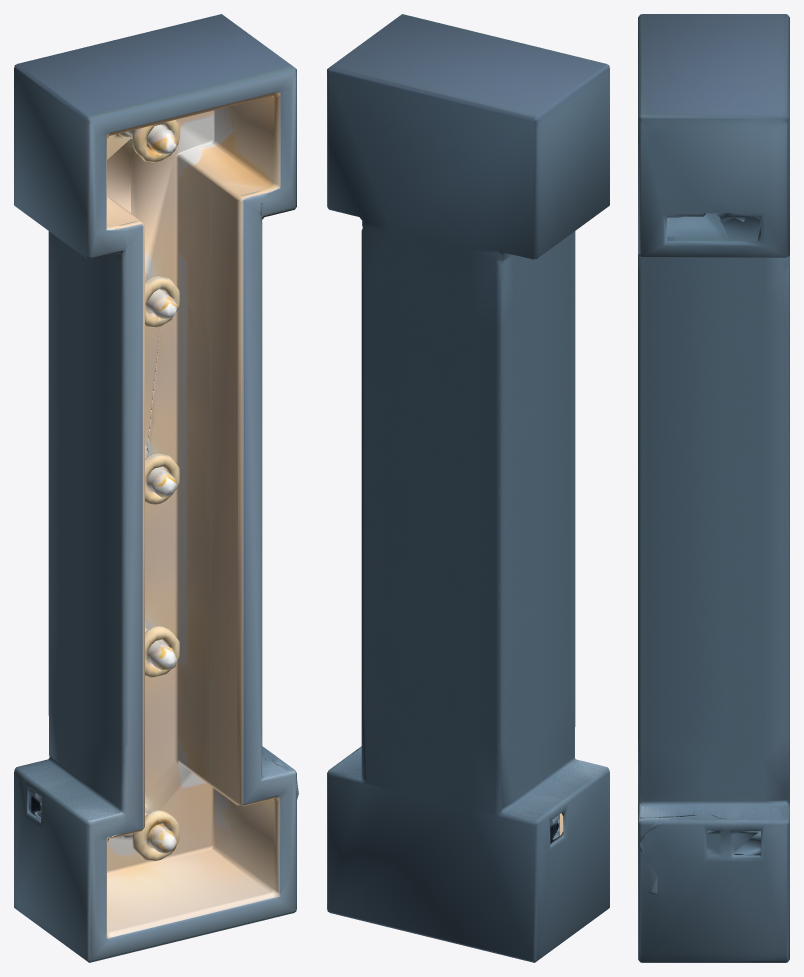
File: Letter_I.glb
3 views of the same model, side by side, from view 1: azimuth 30°, elevation 25°; view 2: azimuth 150°, elevation 25°; view 3: azimuth 270°, elevation 25° (orthographic).
Visible parts, largest first — view 1: Mesh_0; view 2: Mesh_0; view 3: Mesh_0.
Boxes of the visible parts, x1,y1,x2,y2 form: Mesh_0: [14, 14, 298, 962]; Mesh_0: [327, 14, 609, 962]; Mesh_0: [638, 14, 789, 962].
Size of the model in its own units: 0.2385 by 0.9144 by 0.1483.
Materials: 1 (1 with a texture image).
